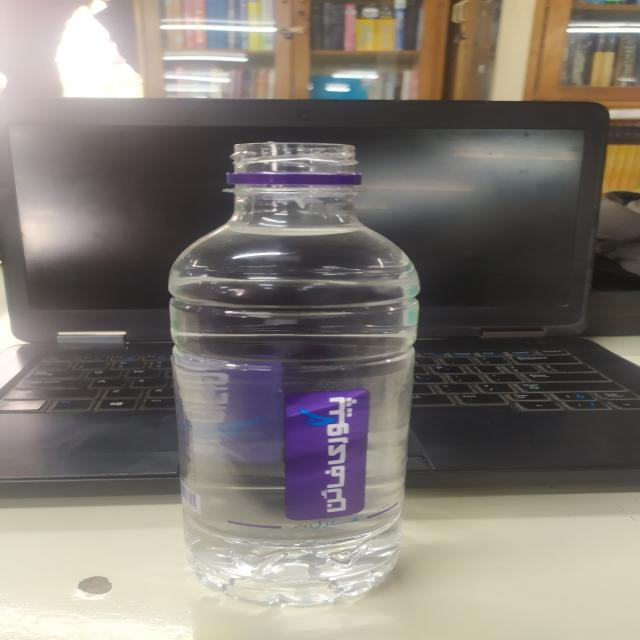bottle: (156, 130, 431, 622)
label: (156, 351, 439, 534)
